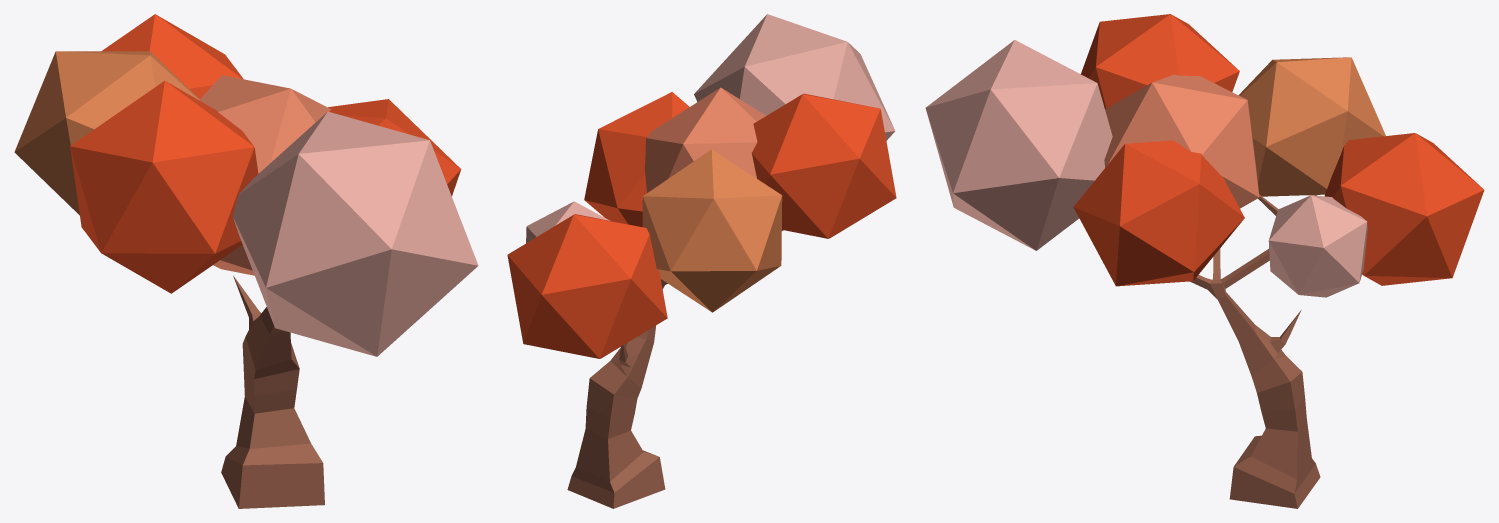
Rendered from RedTree.fbx.
The picture shows the model from 3 angles, left to right: view 1: azimuth 30°, elevation 25°; view 2: azimuth 150°, elevation 25°; view 3: azimuth 270°, elevation 25°; orthographic projection. The views are drawn at different scales.
Parts seen in each view (by area): view 1: Icosphere.004, Icosphere.003, Cube, Icosphere.002, Icosphere.007, Icosphere.001, Icosphere.005; view 2: Icosphere.001, Icosphere.002, Icosphere.003, Icosphere.004, Cube, Icosphere.007, Icosphere.005, Icosphere; view 3: Icosphere.004, Icosphere.005, Icosphere.001, Icosphere.002, Cube, Icosphere.007, Icosphere.003, Icosphere.
Part boxes in pixels (<box>): Icosphere.004: <box>233,111,478,356</box>; Icosphere.003: <box>70,81,258,293</box>; Cube: <box>221,275,324,508</box>; Icosphere.002: <box>14,51,199,215</box>; Icosphere.007: <box>199,75,330,275</box>; Icosphere.001: <box>101,14,243,98</box>; Icosphere.005: <box>328,99,461,196</box>; Icosphere.001: <box>507,214,667,358</box>; Icosphere.002: <box>642,149,782,312</box>; Icosphere.003: <box>751,93,896,238</box>; Icosphere.004: <box>694,14,895,140</box>; Cube: <box>567,279,667,508</box>; Icosphere.007: <box>645,87,783,230</box>; Icosphere.005: <box>584,92,689,226</box>; Icosphere: <box>526,201,609,243</box>; Icosphere.004: <box>925,40,1112,250</box>; Icosphere.005: <box>1073,140,1244,286</box>; Icosphere.001: <box>1324,133,1484,285</box>; Icosphere.002: <box>1238,57,1385,196</box>; Cube: <box>1190,194,1320,508</box>; Icosphere.007: <box>1104,74,1259,208</box>; Icosphere.003: <box>1081,14,1239,108</box>; Icosphere: <box>1268,195,1367,297</box>.
Bounding box in the file's own units: 1003 × 1340 × 1667.
